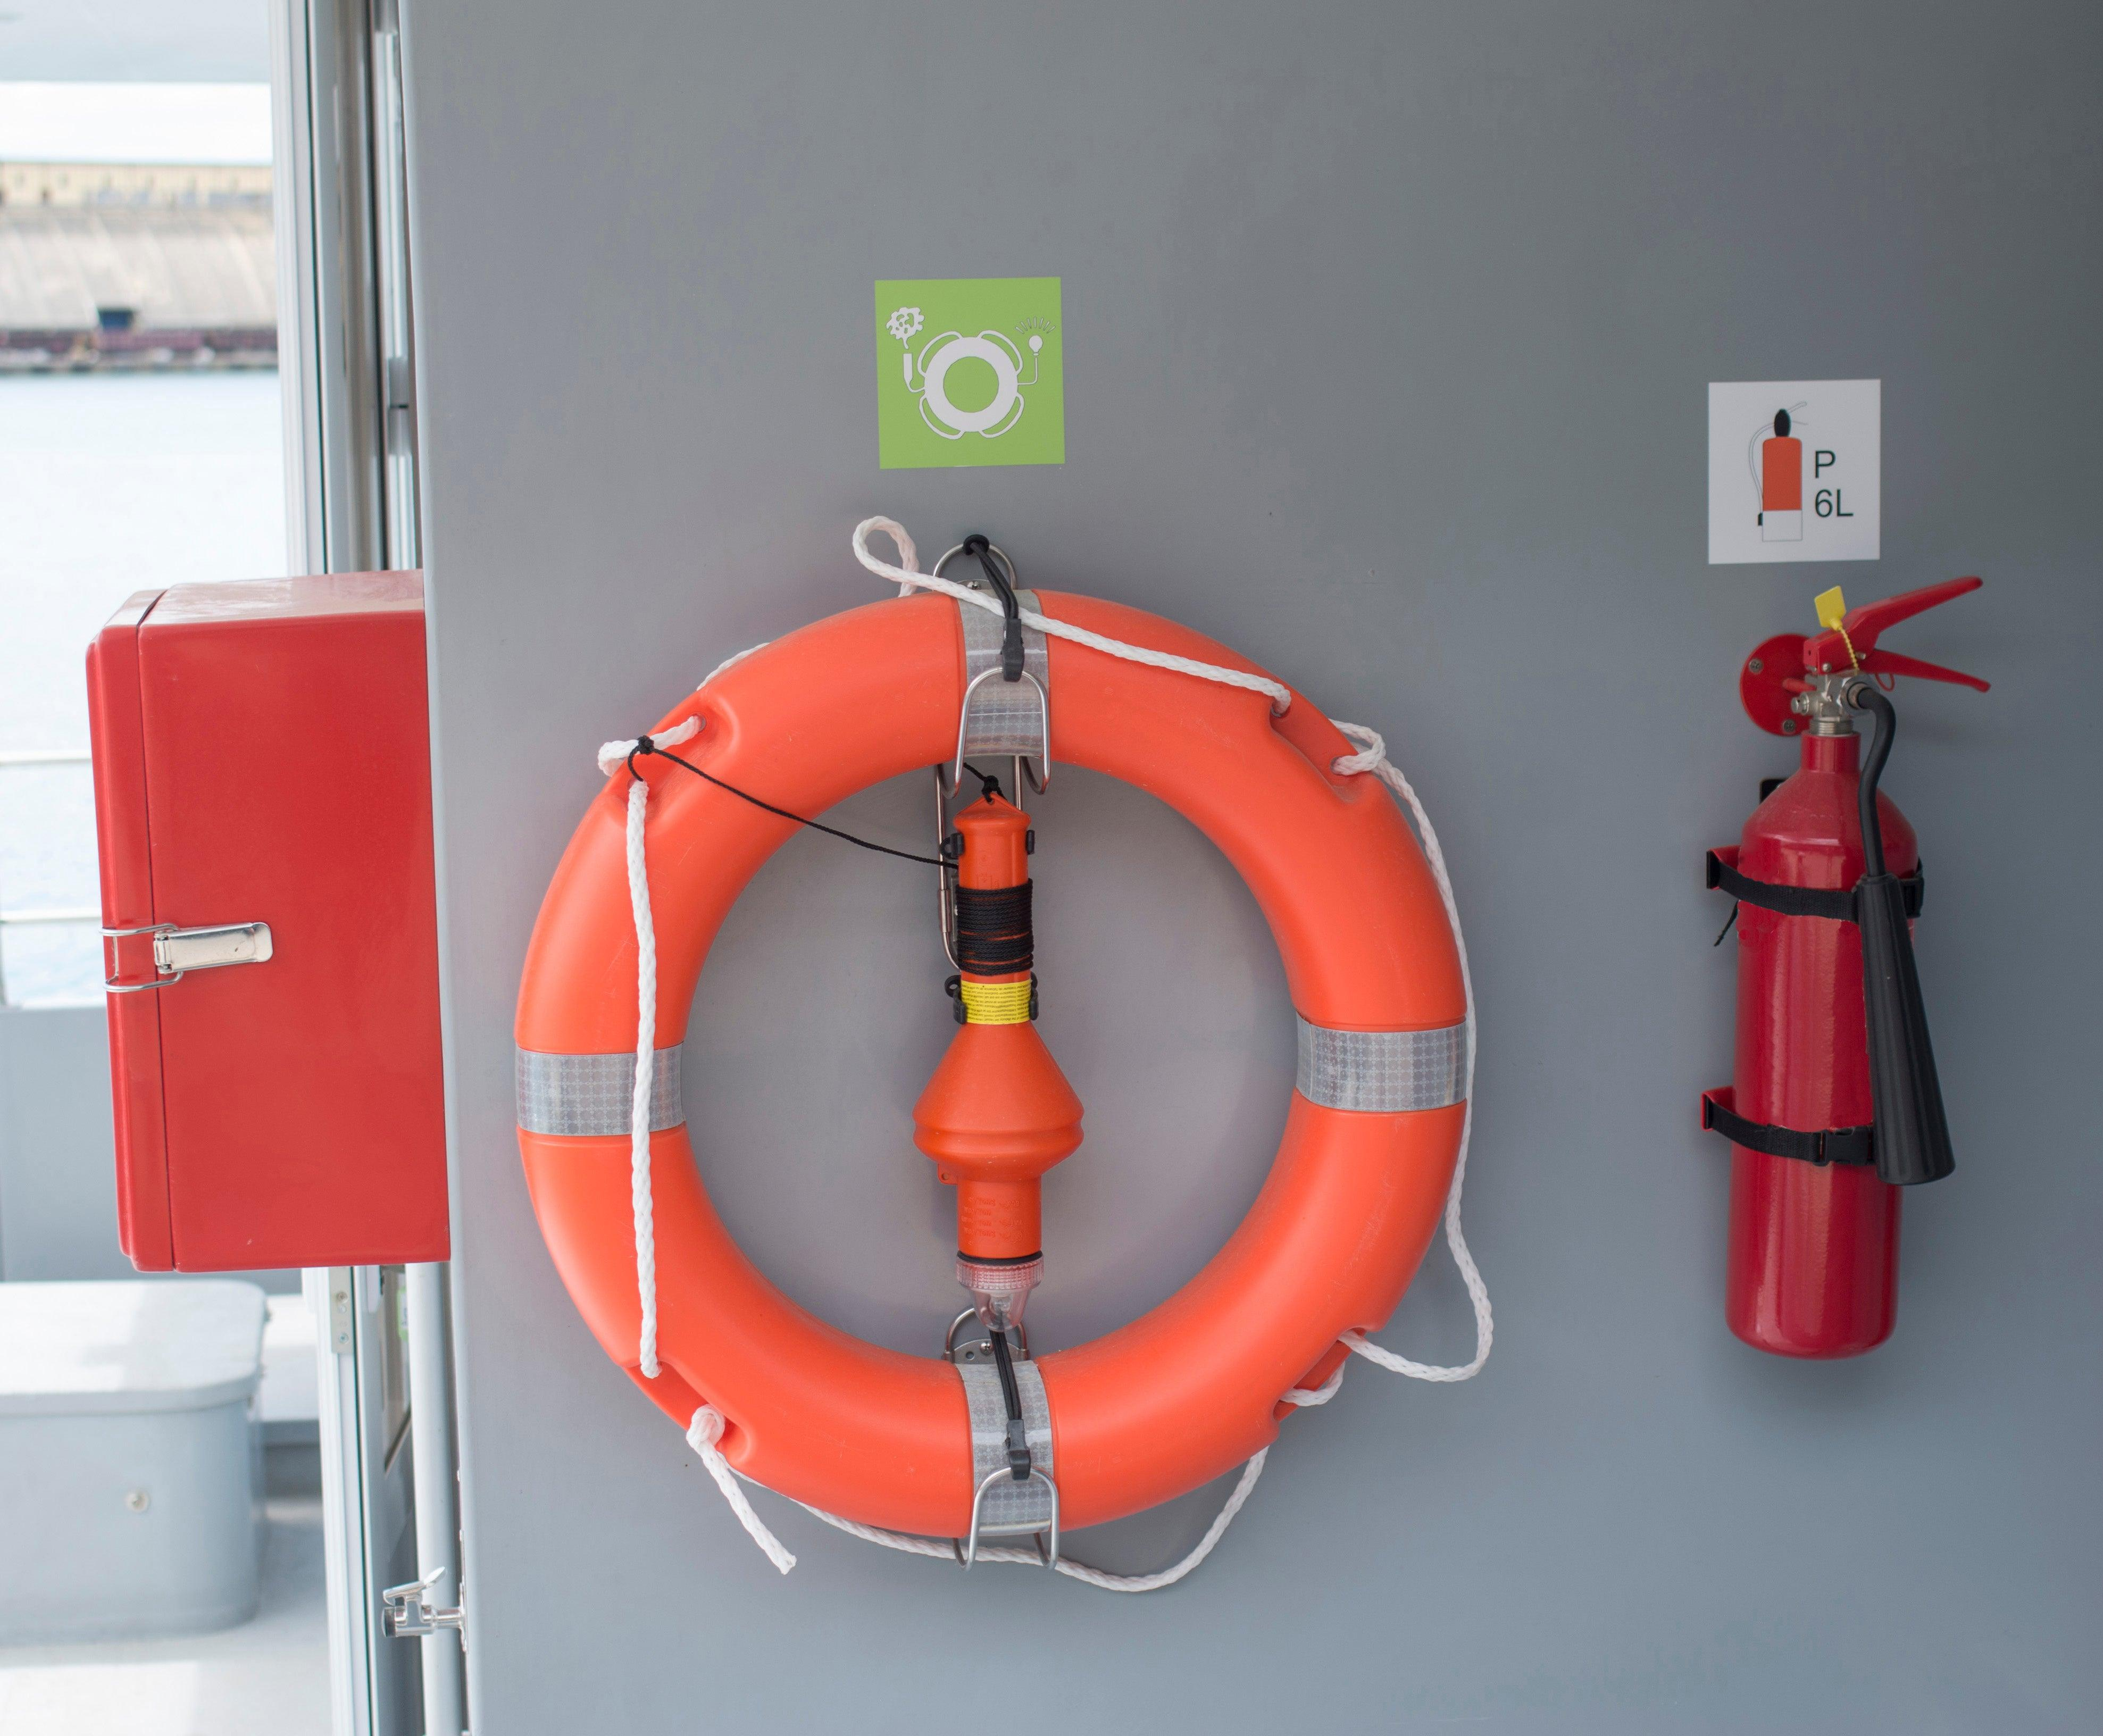cabinet: (87, 571, 468, 1278)
wall-mounted: (1635, 533, 2019, 1413)
